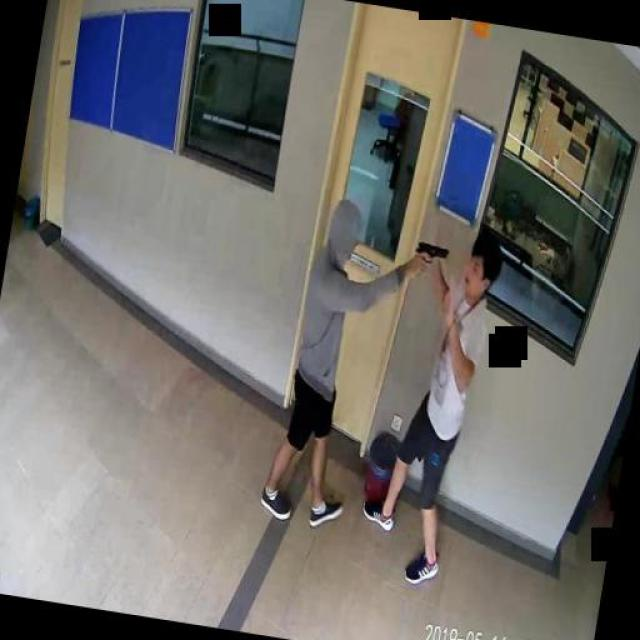gun: (412, 238, 448, 278)
